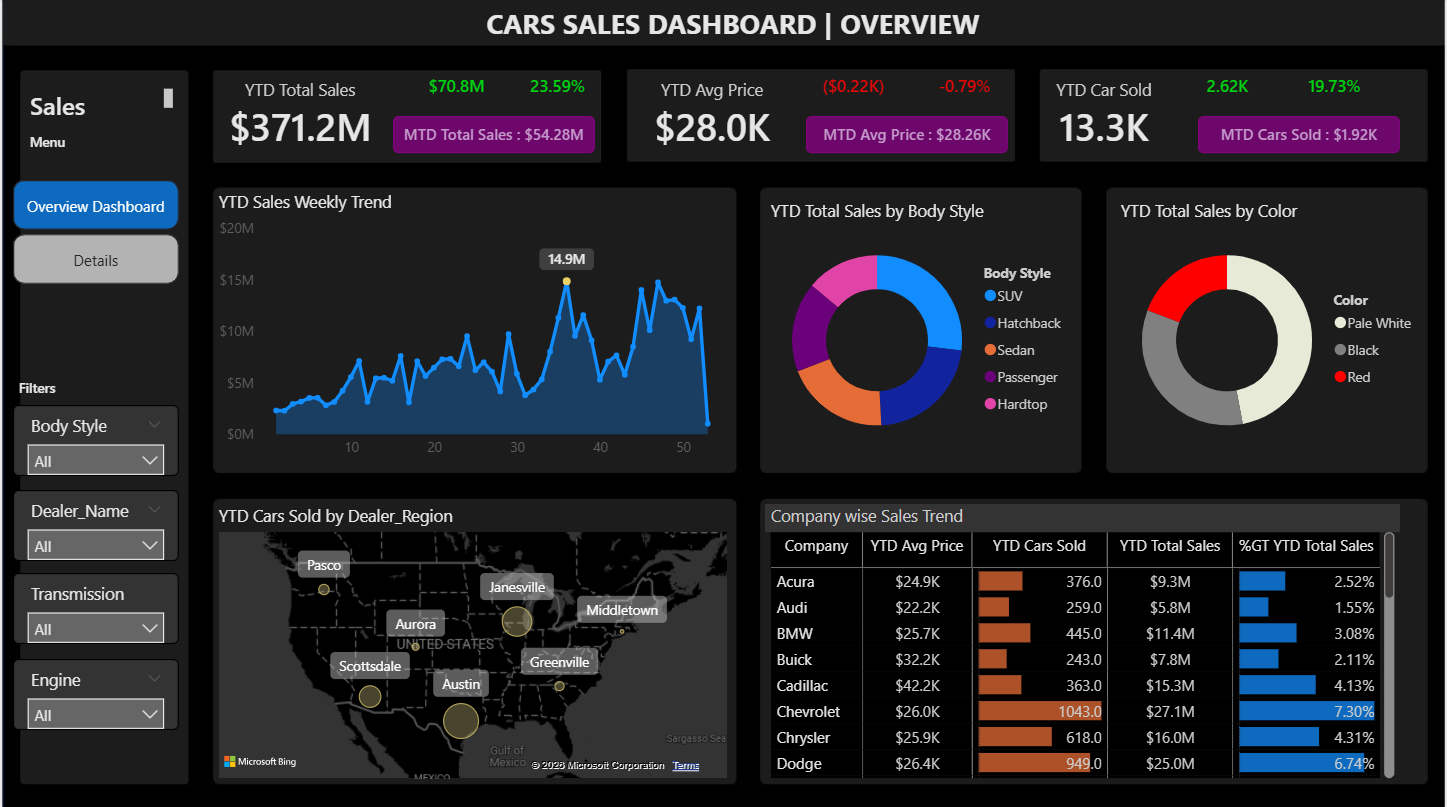

This screenshot's page, from the dashboard's own definition file:
{"tool":"powerbi","page":{"name":"Overview Dashboard","canvas":[1280,720],"ordinal":0},"visuals":[{"type":"card","title":"YTD Total Sales","fields":{"Values":["car_data.YTD Total Sales"]},"box":[193.6,70,142,67.1],"z":0},{"type":"card","fields":{"Values":["car_data.Sales Difference"]},"box":[364.7,63.2,76.8,33.1],"z":1000},{"type":"card","fields":{"Values":["car_data.YoY Sales Growth"]},"box":[454.2,63.2,76.8,33.1],"z":2000},{"type":"card","fields":{"Values":["car_data.MTD KPI"]},"box":[346.3,104.1,179,33.1],"z":3000},{"type":"card","title":"YTD Avg Price","fields":{"Values":["car_data.YTD Avg Price"]},"box":[558.3,70,142,67.1],"z":4000},{"type":"card","fields":{"Values":["car_data.Avg Price Difference"]},"box":[716.8,63.2,76.8,33.1],"z":5000},{"type":"card","fields":{"Values":["car_data.YoY Avg Price Growth"]},"box":[815.1,63.2,76.8,33.1],"z":6000},{"type":"card","fields":{"Values":["car_data.MTD Avg Price KPI"]},"box":[712.9,104.1,179,33.1],"z":7000},{"type":"card","title":"YTD Car Sold","fields":{"Values":["car_data.YTD Cars Sold"]},"box":[906.5,70,142,67.1],"z":8000},{"type":"card","fields":{"Values":["car_data.Cars Sold Diff"]},"box":[1048.5,63.2,76.8,33.1],"z":9000},{"type":"card","fields":{"Values":["car_data.YoY Car Sold Growth"]},"box":[1142.9,63.2,76.8,33.1],"z":10000},{"type":"card","fields":{"Values":["car_data.MTD Cars Sold KPI"]},"box":[1060.2,104.1,179,33.1],"z":11000},{"type":"areaChart","title":"YTD Sales Weekly Trend","fields":{"Category":["Date Table.Week"],"Y":["Sum(car_data.Price ($))","car_data.Max Point on Area Chart"]},"box":[187.1,169.4,461.1,246.5],"z":12000},{"type":"donutChart","fields":{"Category":["car_data.Body Style"],"Y":["car_data.YTD Total Sales"]},"box":[676.6,177.3,276.7,230.5],"z":13000},{"type":"donutChart","fields":{"Y":["car_data.YTD Total Sales"],"Category":["car_data.Color"]},"box":[986.9,177.3,276.7,230.5],"z":14000},{"type":"map","fields":{"Size":["car_data.YTD Cars Sold"],"Category":["car_data.Dealer_Region"]},"box":[187.1,447.8,461.1,248.3],"z":15000},{"type":"pivotTable","title":"Company wise Sales Trend","fields":{"Rows":["car_data.Company"],"Values":["car_data.YTD Avg Price","car_data.YTD Cars Sold","car_data.YTD Total Sales1","car_data.YTD Total Sales"]},"box":[676.6,447.8,563.1,248.3],"z":15001},{"type":"textbox","box":[423,0,450.4,44.3],"z":15002},{"type":"slicer","fields":{"Values":["car_data.Body Style"]},"box":[9.8,360,147.2,63],"z":15003},{"type":"slicer","fields":{"Values":["car_data.Dealer_Name"]},"box":[9.8,435.4,147.2,63],"z":15004},{"type":"slicer","fields":{"Values":["car_data.Transmission"]},"box":[9.8,509,147.2,63],"z":15005},{"type":"slicer","fields":{"Values":["car_data.Engine"]},"box":[9.8,585.2,147.2,63],"z":15006},{"type":"textbox","box":[9.8,330.7,74.5,29.3],"z":15007},{"type":"textbox","box":[19.5,112.6,74.5,29.3],"z":15008},{"type":"textbox","box":[19.5,74.5,137.4,38.1],"z":15009},{"type":"pageNavigator","box":[9.8,160.5,147.2,92.2],"z":15010}]}

Visuals, with their boxes in screenshot pixels (x1, y1, x2, y2), scaled from the page's 1280x720 canvas onto the 1447x807 screenshot:
"YTD Total Sales" card: box=[219, 78, 379, 154]
card - car_data.Sales Difference: box=[412, 71, 499, 108]
card - car_data.YoY Sales Growth: box=[513, 71, 600, 108]
card - car_data.MTD KPI: box=[391, 117, 594, 154]
"YTD Avg Price" card: box=[631, 78, 792, 154]
card - car_data.Avg Price Difference: box=[810, 71, 897, 108]
card - car_data.YoY Avg Price Growth: box=[921, 71, 1008, 108]
card - car_data.MTD Avg Price KPI: box=[806, 117, 1008, 154]
"YTD Car Sold" card: box=[1025, 78, 1185, 154]
card - car_data.Cars Sold Diff: box=[1185, 71, 1272, 108]
card - car_data.YoY Car Sold Growth: box=[1292, 71, 1379, 108]
card - car_data.MTD Cars Sold KPI: box=[1199, 117, 1401, 154]
"YTD Sales Weekly Trend" areaChart: box=[212, 190, 733, 466]
donutChart - car_data.Body Style x car_data.YTD Total Sales: box=[765, 199, 1078, 457]
donutChart - car_data.YTD Total Sales x car_data.Color: box=[1116, 199, 1428, 457]
map - car_data.YTD Cars Sold x car_data.Dealer_Region: box=[212, 502, 733, 780]
"Company wise Sales Trend" pivotTable: box=[765, 502, 1401, 780]
textbox: box=[478, 0, 987, 50]
slicer - car_data.Body Style: box=[11, 404, 177, 474]
slicer - car_data.Dealer_Name: box=[11, 488, 177, 559]
slicer - car_data.Transmission: box=[11, 571, 177, 641]
slicer - car_data.Engine: box=[11, 656, 177, 727]
textbox: box=[11, 371, 95, 404]
textbox: box=[22, 126, 106, 159]
textbox: box=[22, 84, 177, 126]
pageNavigator: box=[11, 180, 177, 283]
